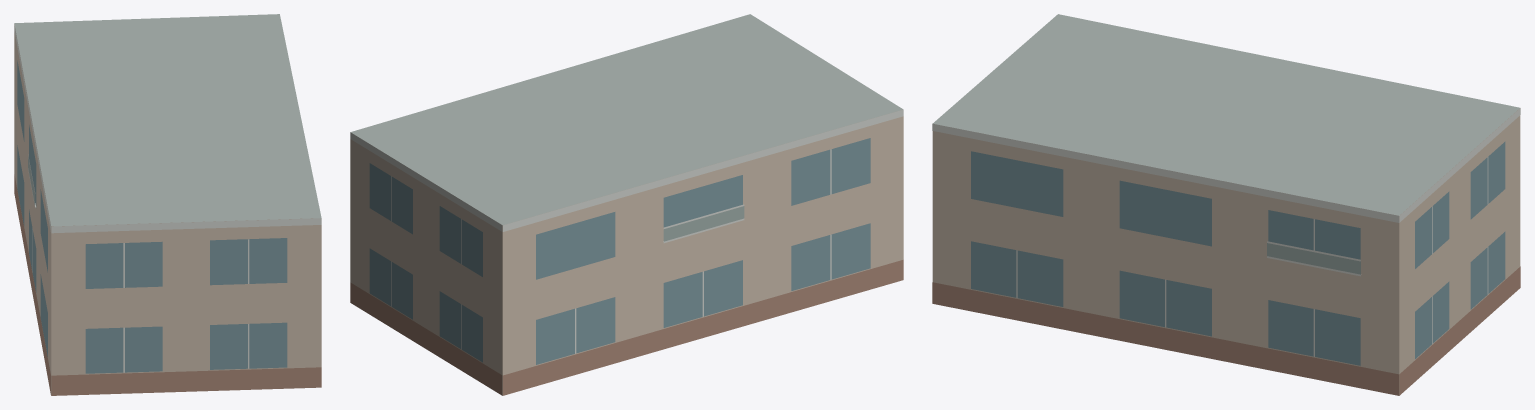
Rendered from survey-upis-32671474.glb.
3 renders of one model, left to right at view 1: azimuth 30°, elevation 25°; view 2: azimuth 150°, elevation 25°; view 3: azimuth 270°, elevation 25°, orthographic. The views are drawn at different scales.
Parts seen in each view (by area): view 1: survey-upis-32671474.tmp; view 2: survey-upis-32671474.tmp; view 3: survey-upis-32671474.tmp.
Part boxes in pixels (<box>): survey-upis-32671474.tmp: <box>14,14,321,395</box>; survey-upis-32671474.tmp: <box>350,14,903,395</box>; survey-upis-32671474.tmp: <box>932,14,1520,395</box>.
Bounding box in the file's own units: 14.67 × 6.1 × 18.06.
